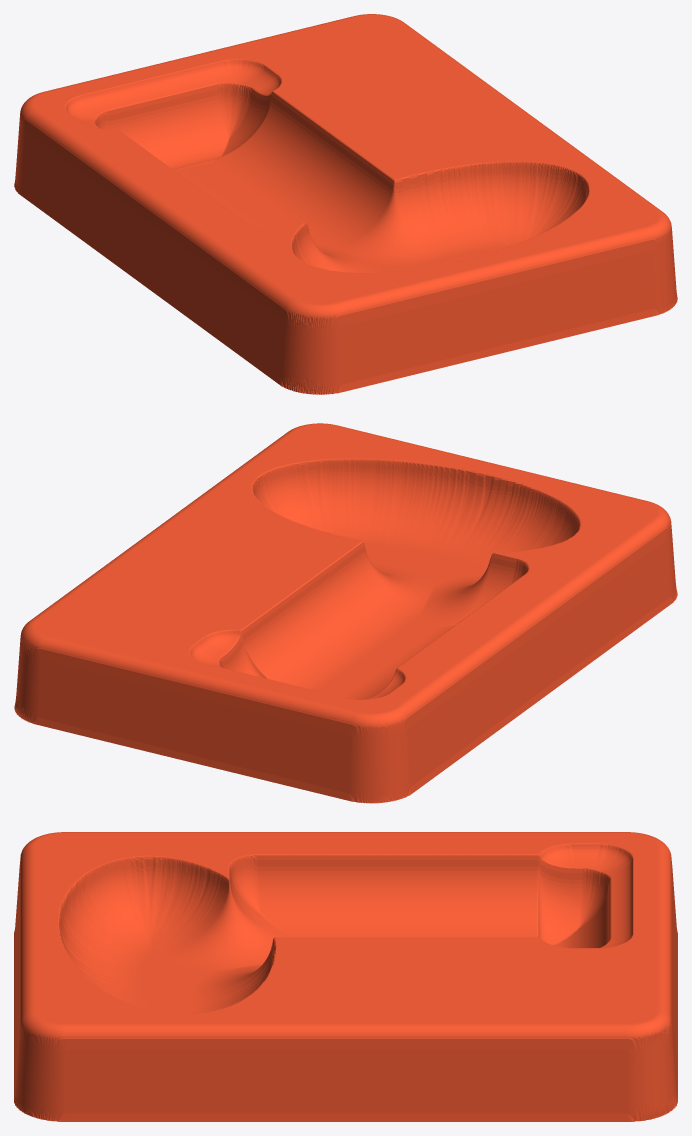
Rendered from mold.glb.
3 views of the same model, one above another, from view 1: azimuth 30°, elevation 25°; view 2: azimuth 150°, elevation 25°; view 3: azimuth 270°, elevation 25° (orthographic). The views are drawn at different scales.
Visible parts, largest first — view 1: geometry_0; view 2: geometry_0; view 3: geometry_0.
Part boxes in pixels (x1=…): geometry_0: x1=14, y1=14, x2=677, y2=394; geometry_0: x1=14, y1=423, x2=677, y2=803; geometry_0: x1=14, y1=832, x2=677, y2=1121.
Bounding box in the file's own units: 0.0872 × 0.0175 × 0.1178.
